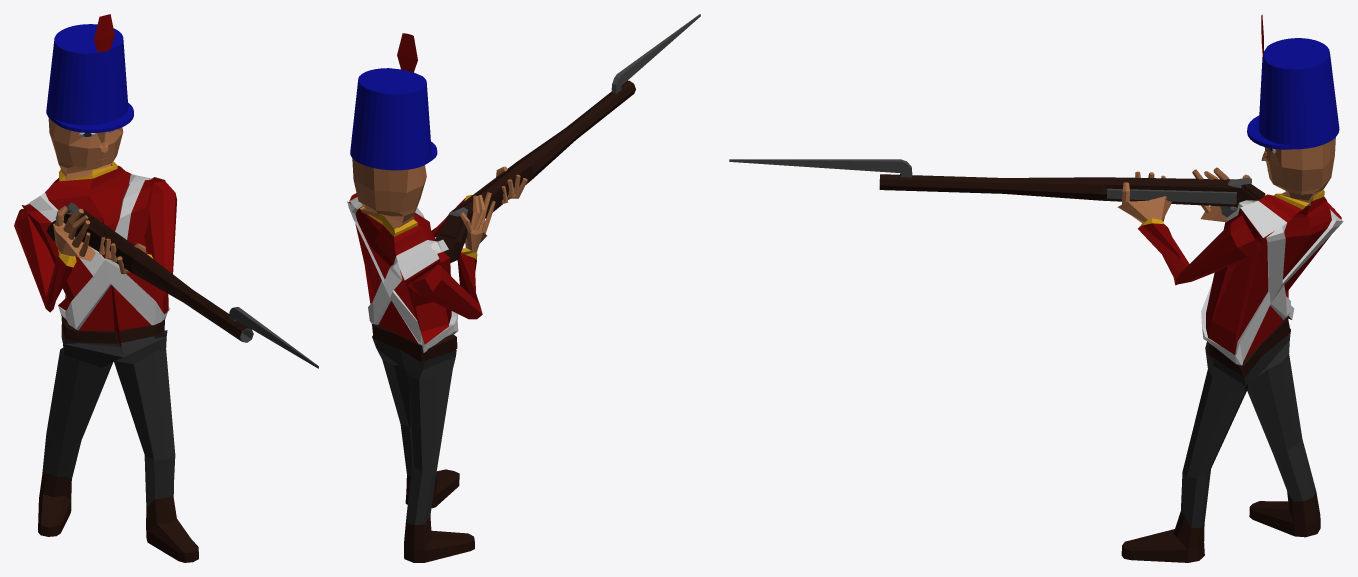
The model's file is frame2.obj.
The picture shows the model from 3 angles, left to right: view 1: azimuth 30°, elevation 25°; view 2: azimuth 150°, elevation 25°; view 3: azimuth 270°, elevation 25°; orthographic projection. The views are drawn at different scales.
Parts seen in each view (by area): view 1: {Man}_Circle, {Mesket}_Cube.001; view 2: {Man}_Circle, {Mesket}_Cube.001; view 3: {Man}_Circle, {Mesket}_Cube.001.
Part boxes in pixels (x1,y1,x2,y2): {Man}_Circle: (14,14,198,562); {Mesket}_Cube.001: (46,202,318,368); {Man}_Circle: (347,33,527,562); {Mesket}_Cube.001: (435,14,700,262); {Man}_Circle: (1117,14,1343,562); {Mesket}_Cube.001: (729,159,1265,217).
Size of the model in its own units: 4.21 by 15.93 by 16.76.
